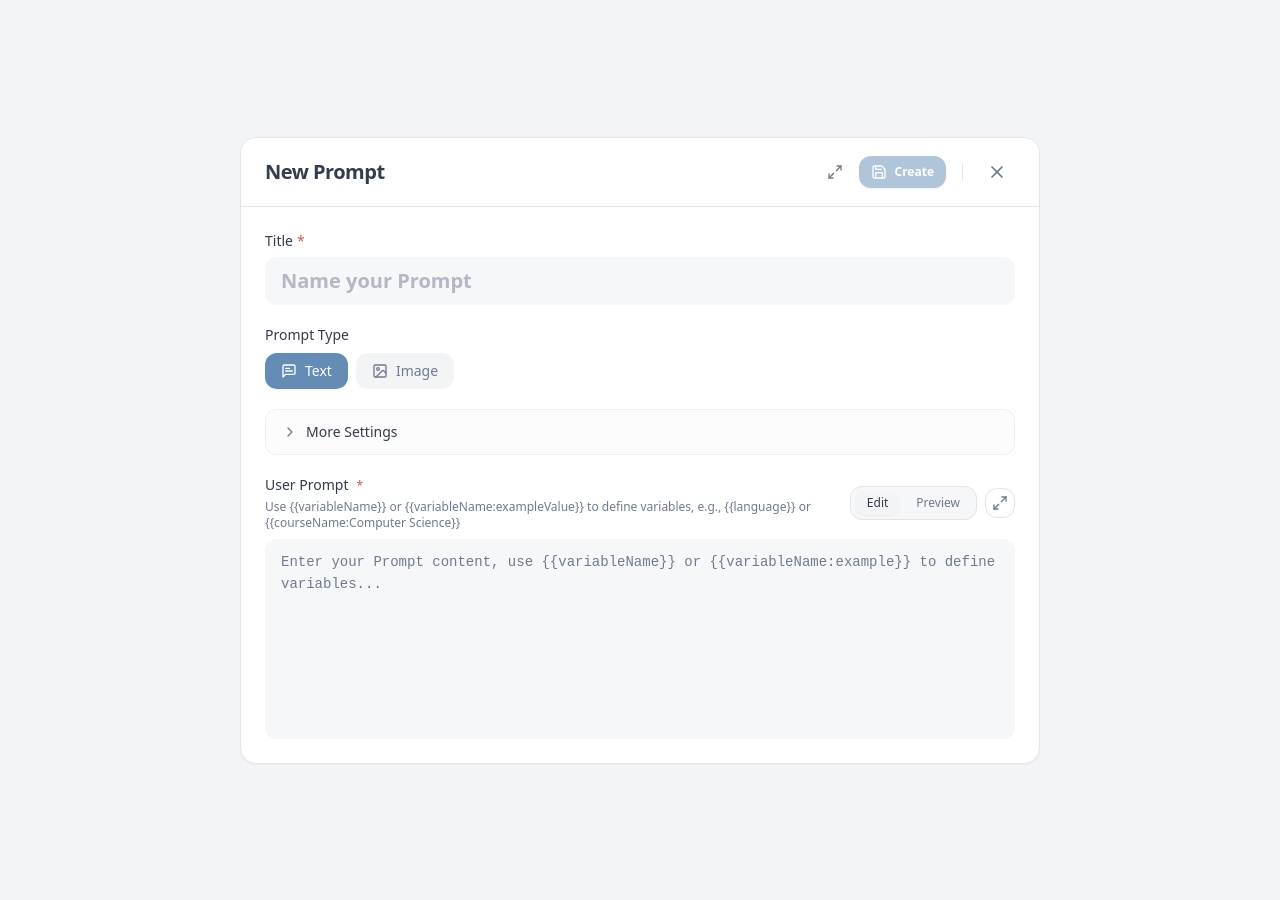
Prompt modal structure › clears create modal source suggestion blur timer when unmounted
The width and height of the screenshot is (1280, 900).
Click the button "More Settings" at (352, 431), box [266,410,1014,454]
(page scrolled)
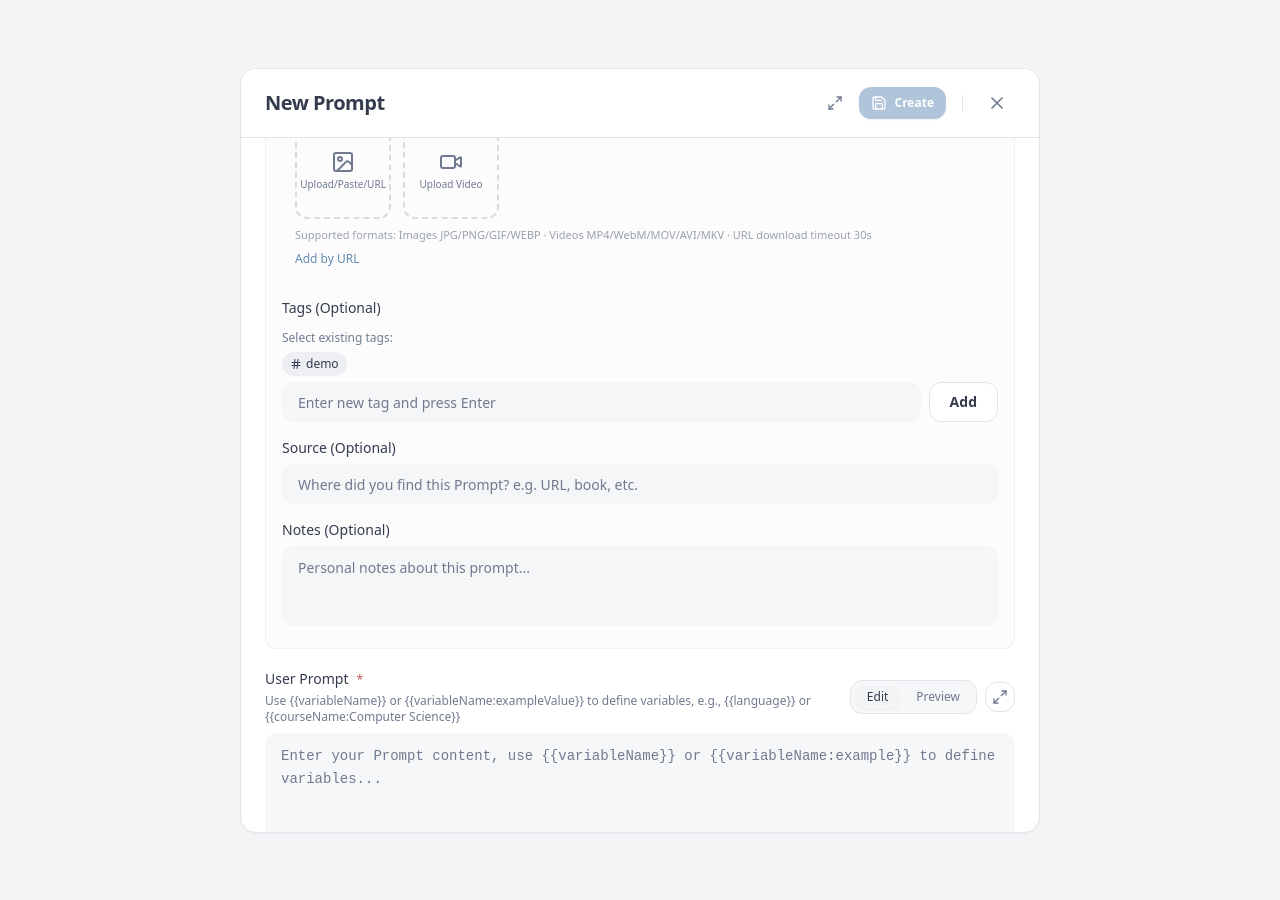
Focus the field with placeholder "Where did you find this Prompt? e.g. URL, book, etc." at (640, 484), box [282,464,998,504]
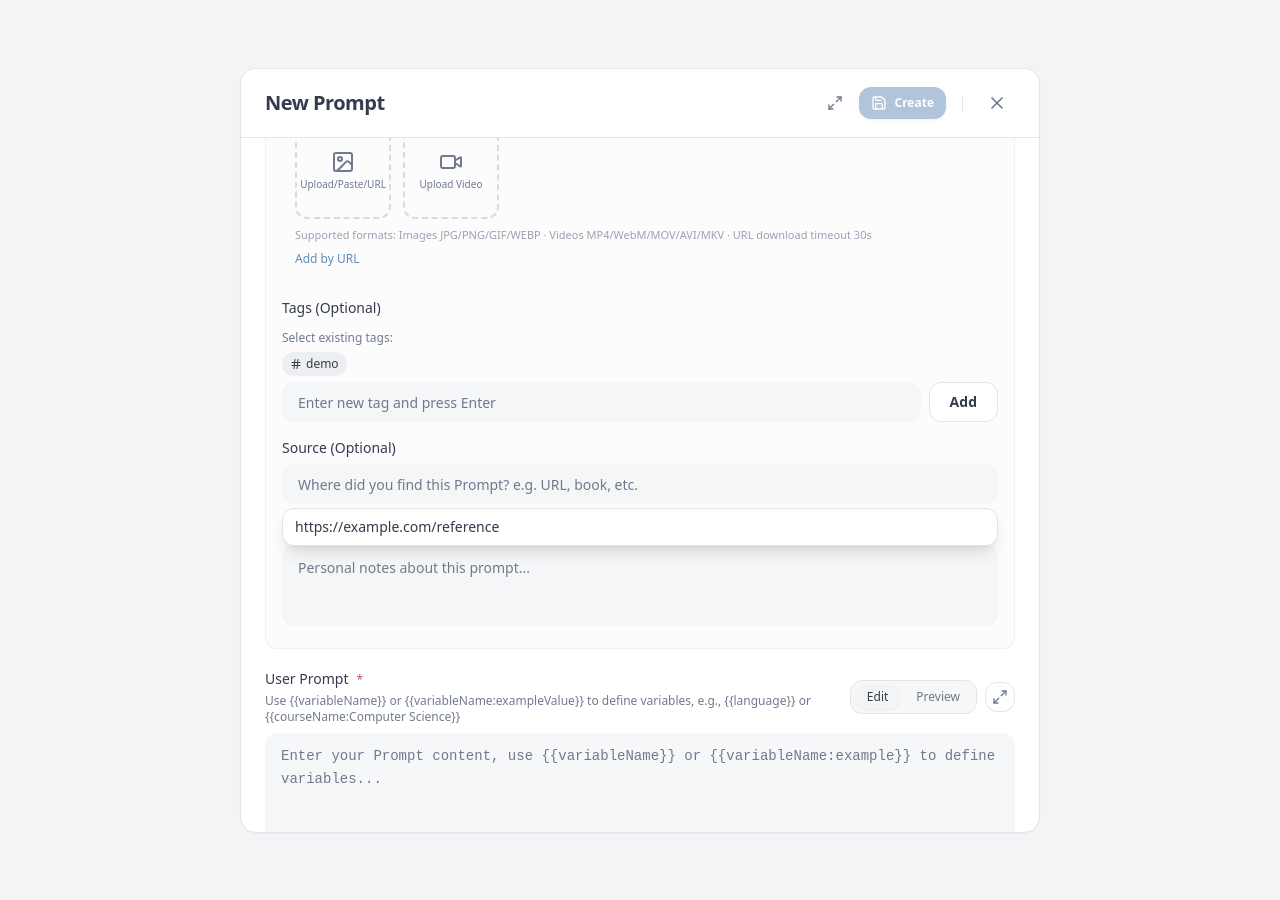
Expected: the button "https://example.com/reference" is shown, [283,509,997,545]
